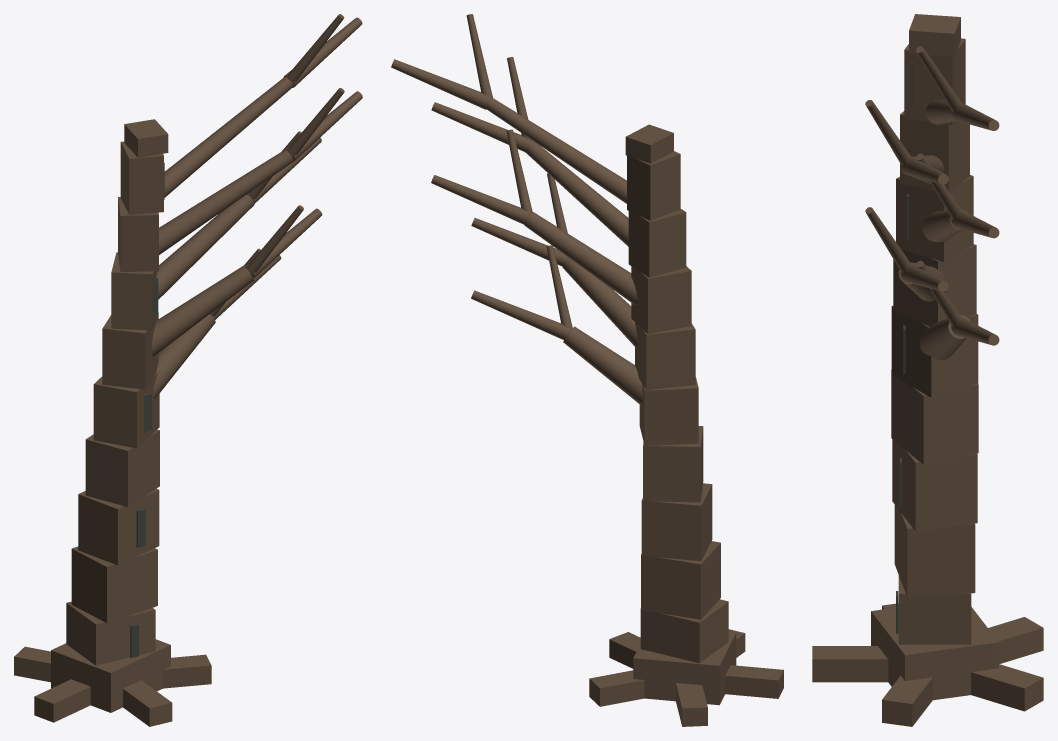
Rendered from FSA_ENV_Outdoor_Tree_03_Windswept.glb.
The picture shows the model from 3 angles, left to right: view 1: azimuth 30°, elevation 25°; view 2: azimuth 150°, elevation 25°; view 3: azimuth 270°, elevation 25°; orthographic projection. The views are drawn at different scales.
Visible parts, largest first — view 1: Main1, Main2, RootCore, Main3, Main0, Main4, Main5, Limb3, Limb4, Limb1, Main6, Main8 (+14 smaller); view 2: Main1, Main2, RootCore, Main0, Main3, Main5, Main7, Main6, Main4, Main8, Limb4, Limb2 (+16 smaller); view 3: RootCore, Main3, Main2, Main1, Main4, Main0, Main6, Main5, Main7, Main8, Root_0, Root_2 (+17 smaller).
Part boxes in pixels (left/top/right/bottom): Main1: left=71, top=546, right=157, bottom=623; Main2: left=78, top=488, right=159, bottom=565; RootCore: left=51, top=639, right=170, bottom=712; Main3: left=85, top=429, right=159, bottom=506; Main0: left=66, top=601, right=155, bottom=665; Main4: left=93, top=372, right=159, bottom=448; Main5: left=102, top=312, right=158, bottom=389; Limb3: left=159, top=149, right=293, bottom=254; Limb4: left=164, top=76, right=293, bottom=197; Limb1: left=151, top=265, right=253, bottom=356; Main6: left=111, top=252, right=157, bottom=330; Main8: left=120, top=141, right=163, bottom=214; Main1: left=641, top=541, right=720, bottom=619; Main2: left=641, top=483, right=712, bottom=560; RootCore: left=633, top=632, right=736, bottom=705; Main0: left=640, top=599, right=728, bottom=663; Main3: left=643, top=426, right=703, bottom=502; Main5: left=635, top=322, right=695, bottom=390; Main7: left=628, top=209, right=686, bottom=277; Main6: left=631, top=266, right=691, bottom=334; Main4: left=639, top=377, right=698, bottom=445; Main8: left=627, top=151, right=680, bottom=220; Limb4: left=486, top=98, right=626, bottom=203; Limb2: left=524, top=212, right=637, bottom=304; RootCore: left=871, top=607, right=998, bottom=700; Main3: left=891, top=369, right=978, bottom=464; Main2: left=892, top=439, right=977, bottom=531; Main1: left=894, top=505, right=975, bottom=597; Main4: left=891, top=305, right=978, bottom=397; Main0: left=898, top=575, right=971, bottom=644; Main6: left=896, top=175, right=973, bottom=261; Main5: left=893, top=244, right=976, bottom=326; Main7: left=900, top=111, right=969, bottom=192; Main8: left=904, top=38, right=965, bottom=125; Root_0: left=812, top=646, right=888, bottom=682; Root_2: left=971, top=664, right=1043, bottom=711.
Bounding box in the file's own units: 3.01 × 4.98 × 1.37.
